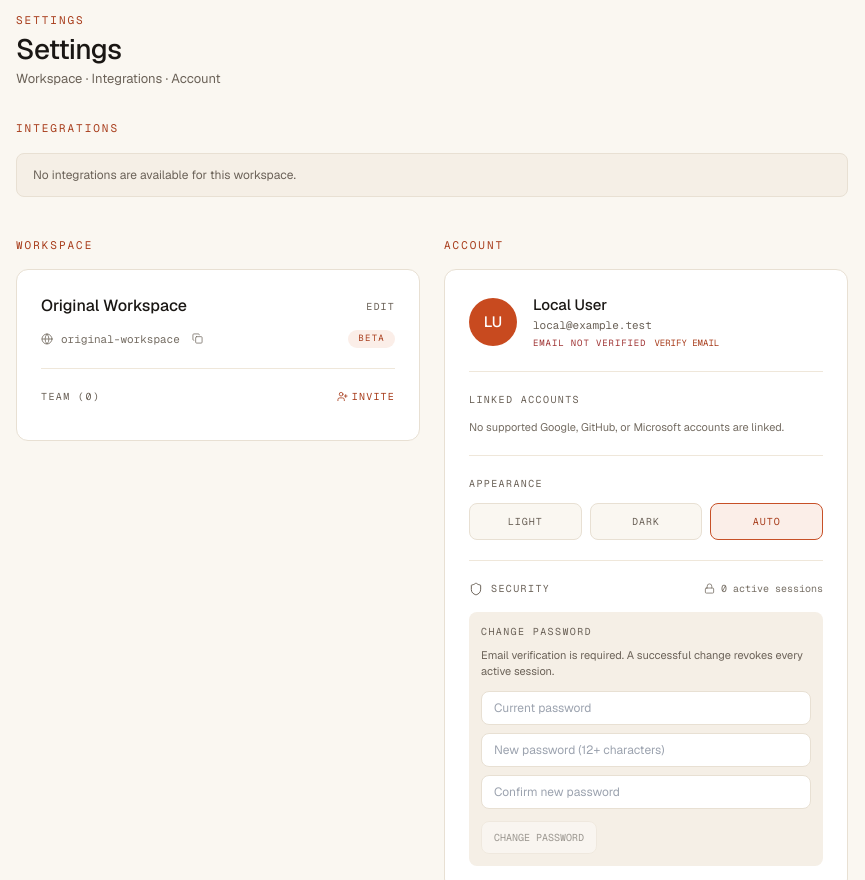
Test: Settings workspace persistence › [FIX-17] keeps the server value and reports failure when rename persistence is rejected
The image size is (865, 880).
Expected: the text "Original Workspace" is shown, [41,295,187,316]
Click the button "Edit" at (381, 306), box [366,298,395,314]
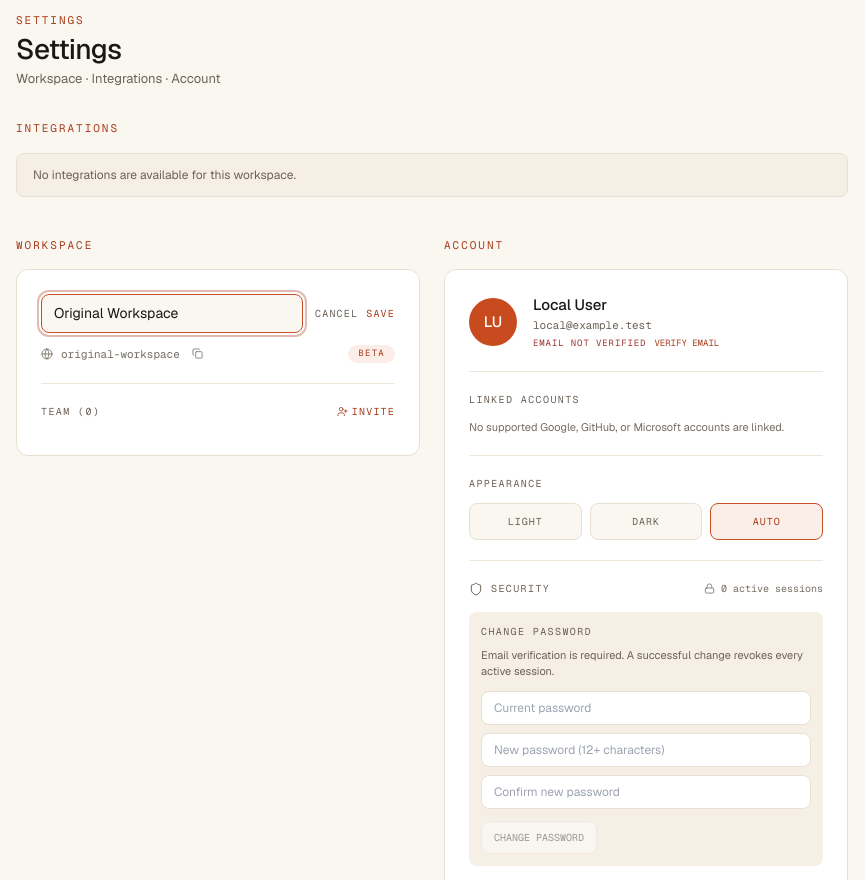
Replace the text in the field showing "Original Workspace" with "Unsaved Workspace" at (172, 314), box [41,294,303,333]
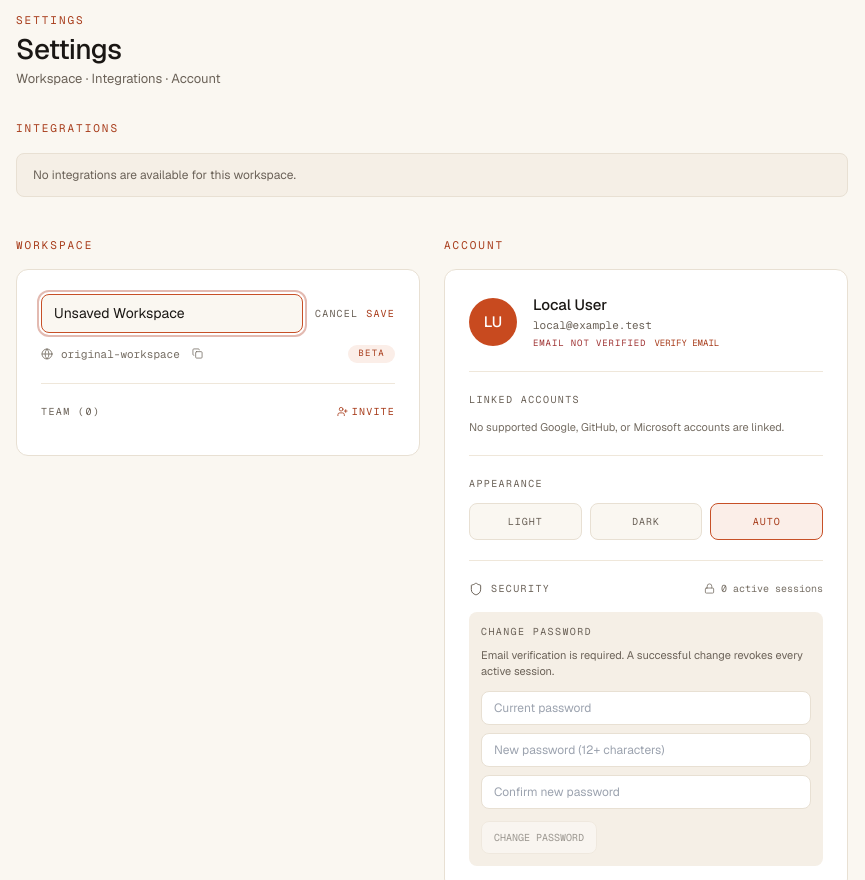
Click the button "Save" at (381, 314), box [366,306,395,321]
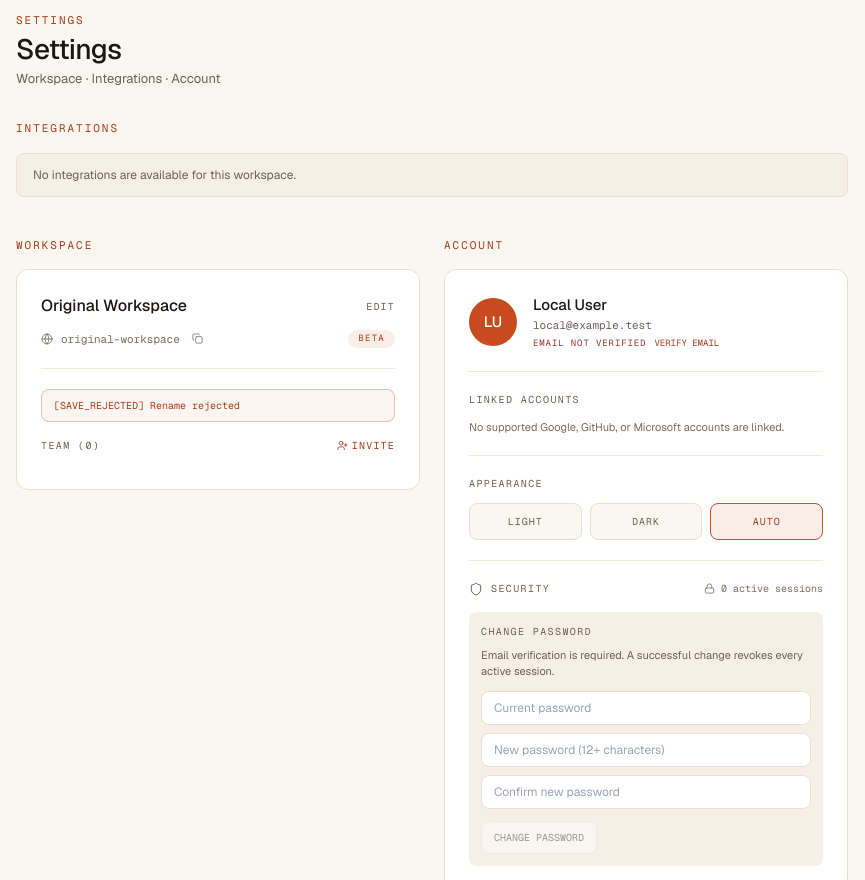
Result: the text "Original Workspace" is shown at [41,295,187,316]
Result: the message "[SAVE_REJECTED] Rename rejected" is shown at [41,388,395,422]
